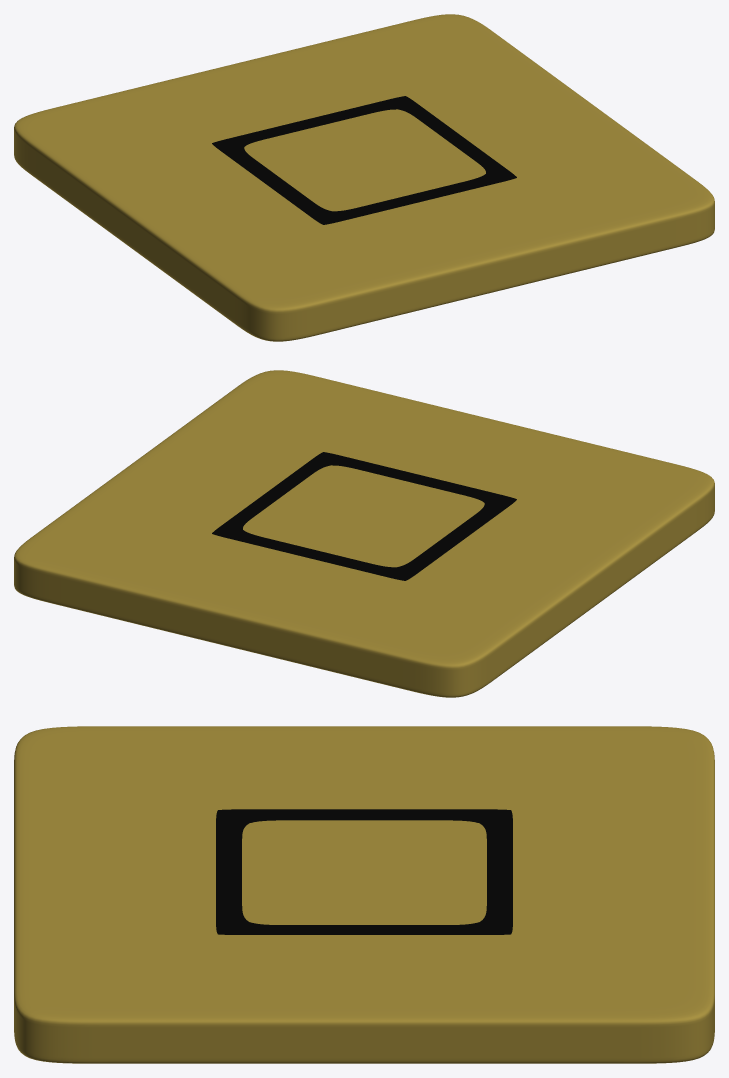
File: square-transformed.glb
3 renders of one model, top to bottom at view 1: azimuth 30°, elevation 25°; view 2: azimuth 150°, elevation 25°; view 3: azimuth 270°, elevation 25°, orthographic. The views are drawn at different scales.
Visible parts, largest first — view 1: Cube_2; view 2: Cube_2; view 3: Cube_2.
Boxes of the visible parts, box(x1,y1,x2,y2) form: Cube_2: box(14, 14, 714, 341); Cube_2: box(14, 370, 714, 697); Cube_2: box(14, 726, 714, 1063).
Size of the model in its own units: 2 by 0.1422 by 2.
